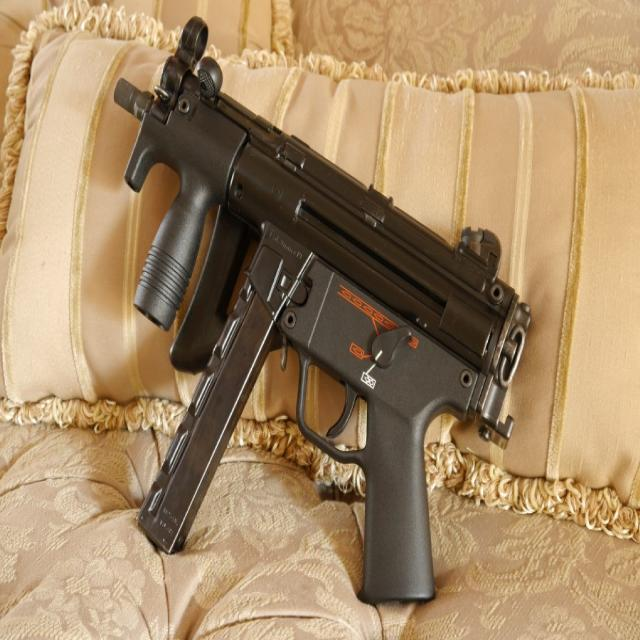SMG: (113, 18, 533, 605)
